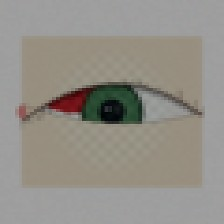hemorrhage_spot: (30, 60, 132, 142)
